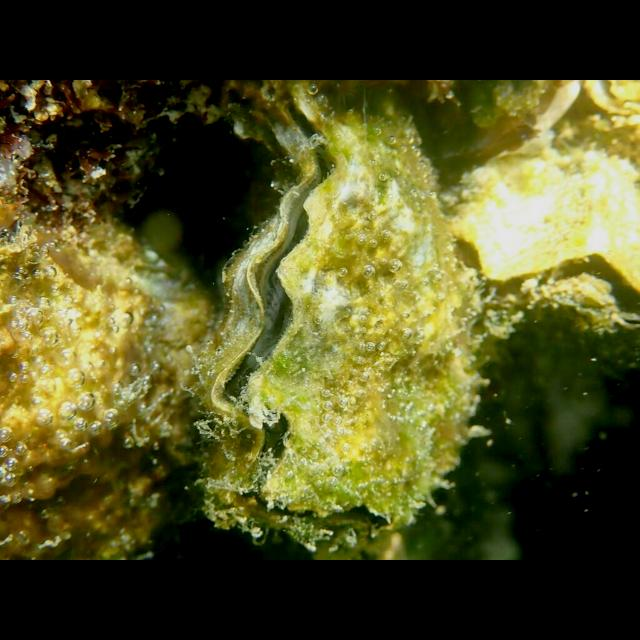Oyster-Open: (194, 80, 476, 548), (434, 147, 640, 329)
